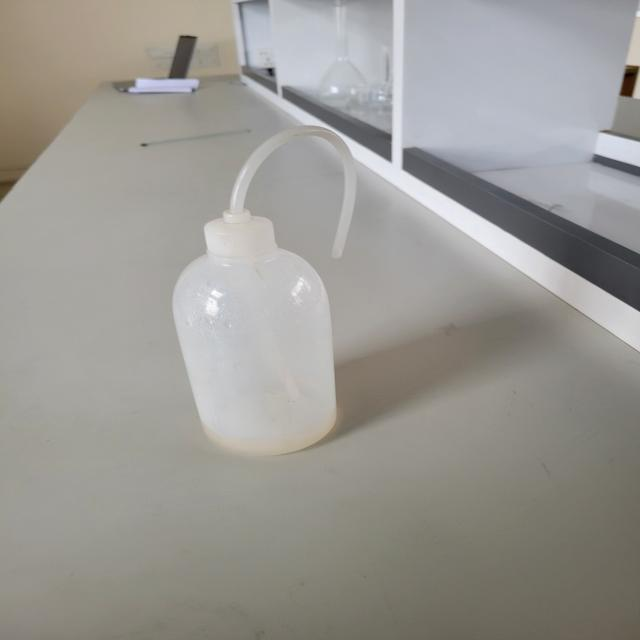Wash_Bottle: (119, 85, 416, 494)
